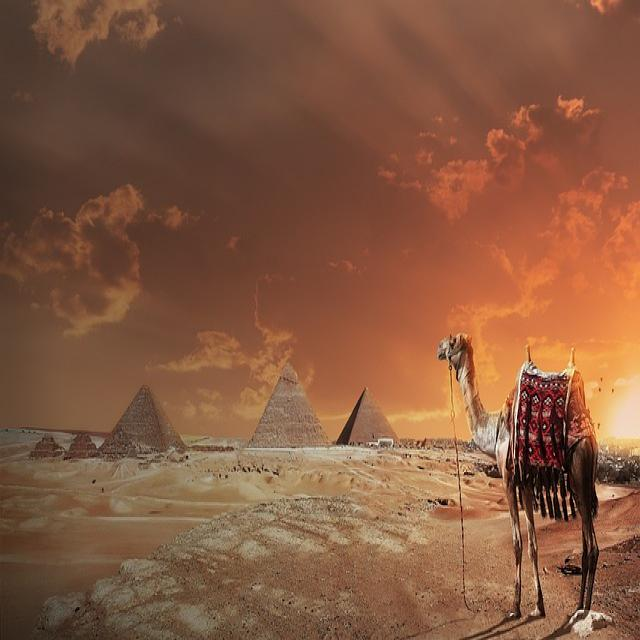Herbivorous: (438, 337, 606, 631)
